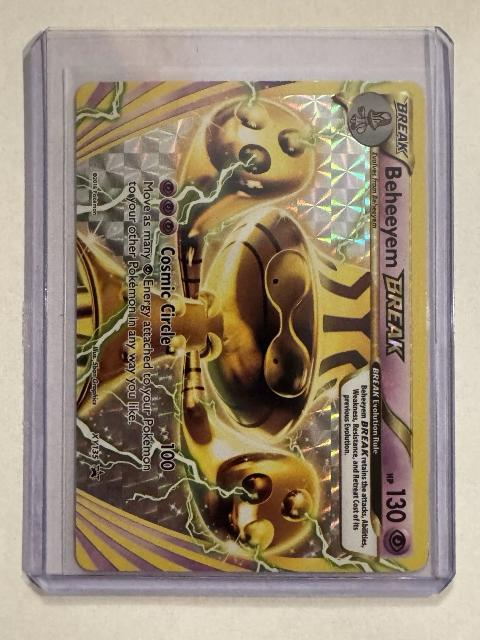Card: (68, 76, 433, 575)
Name: (379, 158, 408, 369)
